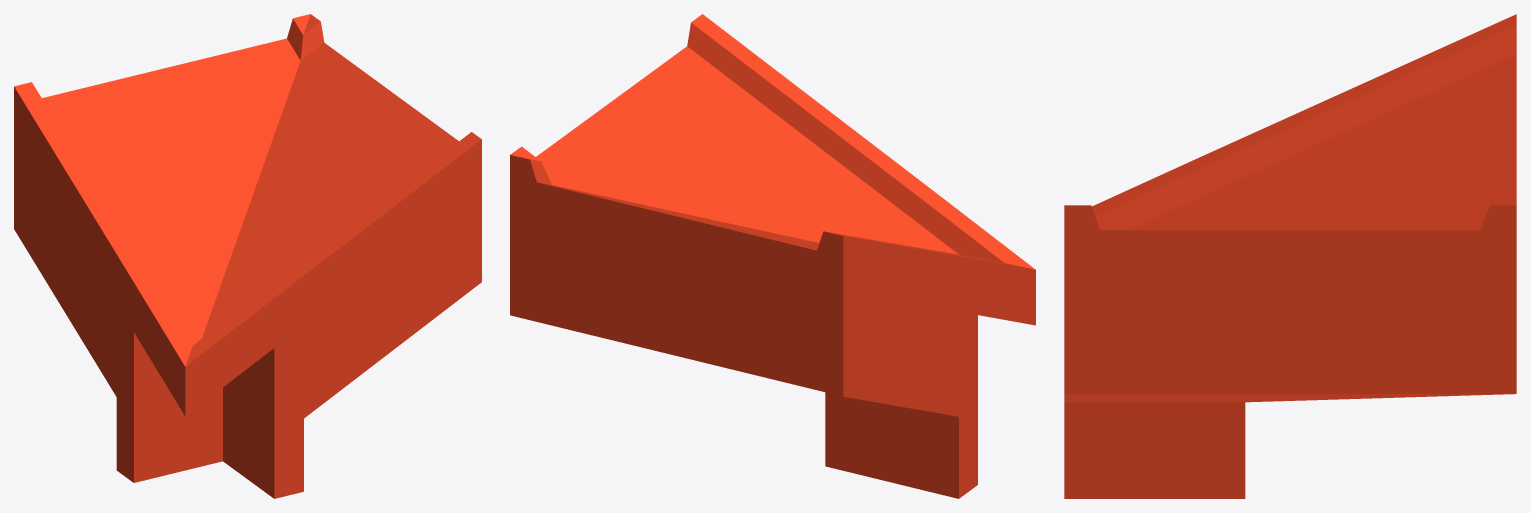
Rendered from roof-metal-moderate-edge-corner-b.fbx.
3 views of the same model, side by side, from view 1: azimuth 30°, elevation 25°; view 2: azimuth 150°, elevation 25°; view 3: azimuth 270°, elevation 25° (orthographic). The views are drawn at different scales.
Parts seen in each view (by area): view 1: roof-metal-moderate-edge-corner-b; view 2: roof-metal-moderate-edge-corner-b; view 3: roof-metal-moderate-edge-corner-b.
Boxes of the visible parts, x1,y1,x2,y2 form: roof-metal-moderate-edge-corner-b: (14,14,481,498); roof-metal-moderate-edge-corner-b: (510,14,1035,498); roof-metal-moderate-edge-corner-b: (1064,14,1516,498).
Size of the model in its own units: 0.5 by 0.4978 by 0.5.
